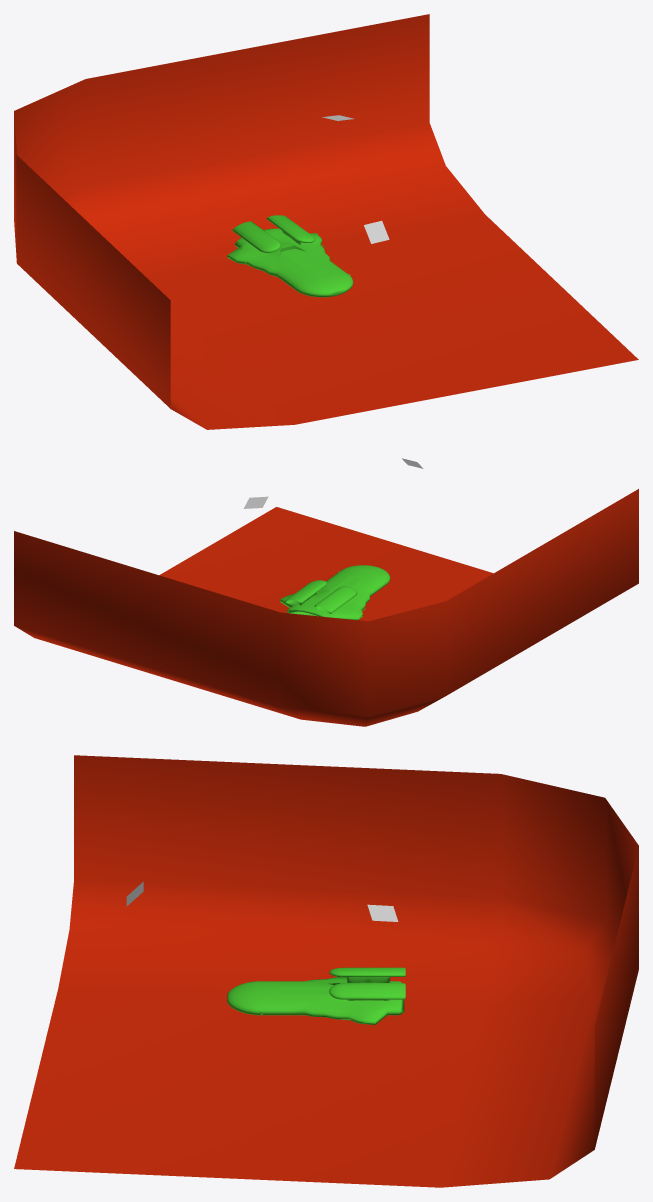
The picture shows the model from 3 angles, top to bottom: view 1: azimuth 30°, elevation 25°; view 2: azimuth 150°, elevation 25°; view 3: azimuth 270°, elevation 25°; orthographic projection. The views are drawn at different scales.
Parts seen in each view (by area): view 1: Cube.001, cruiser; view 2: Cube.001, cruiser; view 3: Cube.001, cruiser.
Part boxes in pixels (x1,y1,x2,y2): Cube.001: (14, 14, 638, 429); cruiser: (227, 215, 353, 297); Cube.001: (14, 489, 638, 726); cruiser: (280, 565, 390, 620); Cube.001: (14, 755, 638, 1187); cruiser: (227, 967, 405, 1024).
Size of the model in its own units: 10.77 by 3.4 by 10.5.
